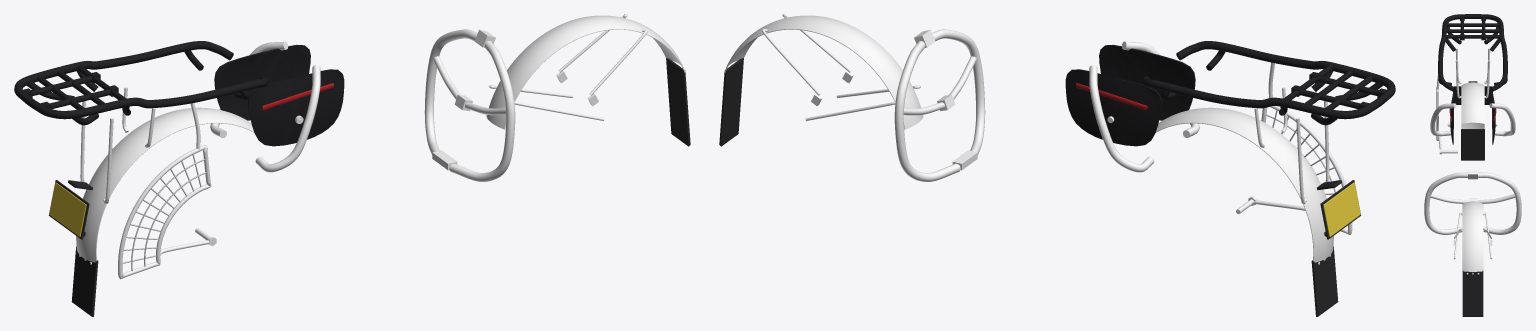
The model's file is bike_boda_boda__bodywork.glb.
3 views of the same model, side by side, from view 1: azimuth 30°, elevation 25°; view 2: azimuth 150°, elevation 25°; view 3: azimuth 270°, elevation 25° (orthographic). The views are drawn at different scales.
Parts seen in each view (by area): view 1: frame_body__carrier, frame_body__rear_mudguard, frame_body__side_panels__left, frame_body__crash_guard_front, frame_body__front_mudguard, frame_body__side_panels__right, frame_body__dress_guard__frame, frame_body__crash_guard_rear, frame_body__front_mudguard__mudflap, frame_body__rear_mudguard__mudflap, frame_body__front_mudguard__stays, frame_body__number_plate_bracket__plate (+3 smaller); view 2: frame_body__carrier, frame_body__rear_mudguard, frame_body__side_panels__right, frame_body__crash_guard_front, frame_body__front_mudguard, frame_body__side_panels__left, frame_body__crash_guard_rear, frame_body__front_mudguard__mudflap, frame_body__rear_mudguard__mudflap, frame_body__front_mudguard__stays, frame_body__number_plate_bracket__plate, frame_body__dress_guard__frame (+2 smaller); view 3: frame_body__carrier, frame_body__crash_guard_front, frame_body__front_mudguard, frame_body__rear_mudguard, frame_body__front_mudguard__mudflap, frame_body__rear_mudguard__mudflap, frame_body__crash_guard_rear, frame_body__rear_mudguard__stays, frame_body__front_mudguard__stays, frame_body__number_plate_bracket, frame_body__dress_guard__frame, frame_body__side_panels__left (+1 smaller).
Boxes of the visible parts, box(x1,y1,x2,y2) form: frame_body__carrier: box(14, 41, 268, 125); frame_body__rear_mudguard: box(76, 107, 254, 262); frame_body__side_panels__left: box(248, 69, 344, 146); frame_body__crash_guard_front: box(424, 29, 515, 181); frame_body__front_mudguard: box(486, 15, 685, 129); frame_body__side_panels__right: box(214, 44, 310, 120); frame_body__dress_guard__frame: box(118, 103, 216, 279); frame_body__crash_guard_rear: box(210, 41, 320, 172); frame_body__front_mudguard__mudflap: box(666, 58, 690, 146); frame_body__rear_mudguard__mudflap: box(71, 246, 98, 316); frame_body__front_mudguard__stays: box(489, 14, 647, 120); frame_body__number_plate_bracket__plate: box(49, 182, 86, 236); frame_body__carrier: box(1141, 41, 1395, 125); frame_body__rear_mudguard: box(1155, 107, 1333, 262); frame_body__side_panels__right: box(1065, 69, 1161, 146); frame_body__crash_guard_front: box(894, 29, 985, 181); frame_body__front_mudguard: box(724, 15, 923, 129); frame_body__side_panels__left: box(1099, 44, 1195, 120); frame_body__crash_guard_rear: box(1089, 41, 1199, 172); frame_body__front_mudguard__mudflap: box(719, 58, 743, 146); frame_body__rear_mudguard__mudflap: box(1311, 246, 1338, 316); frame_body__front_mudguard__stays: box(762, 14, 920, 120); frame_body__number_plate_bracket__plate: box(1323, 182, 1360, 236); frame_body__dress_guard__frame: box(1236, 62, 1352, 234); frame_body__carrier: box(1438, 14, 1507, 91); frame_body__crash_guard_front: box(1424, 169, 1521, 234); frame_body__front_mudguard: box(1462, 201, 1483, 271); frame_body__rear_mudguard: box(1461, 82, 1484, 128); frame_body__front_mudguard__mudflap: box(1462, 270, 1483, 316); frame_body__rear_mudguard__mudflap: box(1461, 129, 1484, 160); frame_body__crash_guard_rear: box(1430, 103, 1515, 136); frame_body__rear_mudguard__stays: box(1455, 48, 1490, 98); frame_body__front_mudguard__stays: box(1453, 212, 1492, 259); frame_body__number_plate_bracket: box(1453, 81, 1492, 104); frame_body__dress_guard__frame: box(1436, 74, 1457, 154); frame_body__side_panels__left: box(1450, 91, 1453, 144).
Bounding box in the file's own units: 208 × 68.03 × 45.78.
